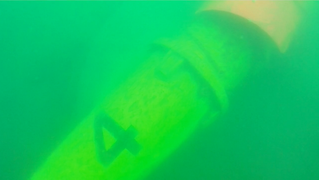4: (94, 112, 141, 166)
leak: (196, 1, 315, 55)
pipe: (29, 13, 275, 180)
